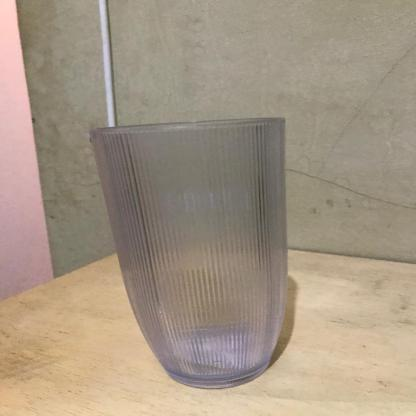glass: (89, 127, 296, 385)
